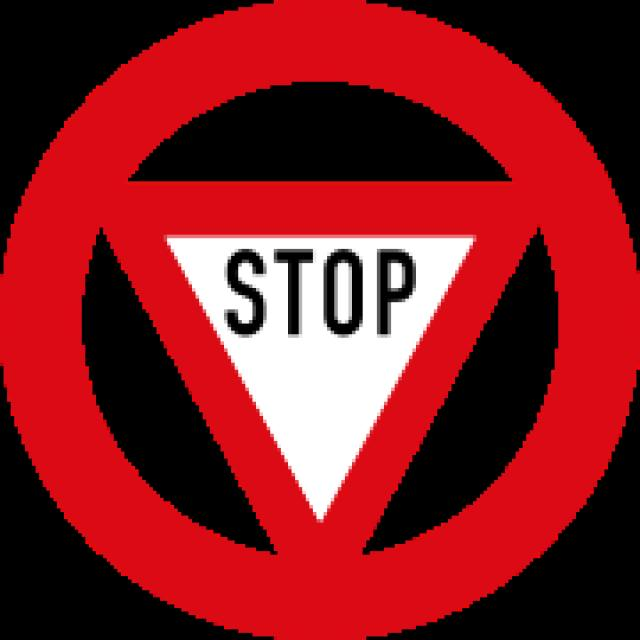Traffic sign: (6, 71, 612, 582)
